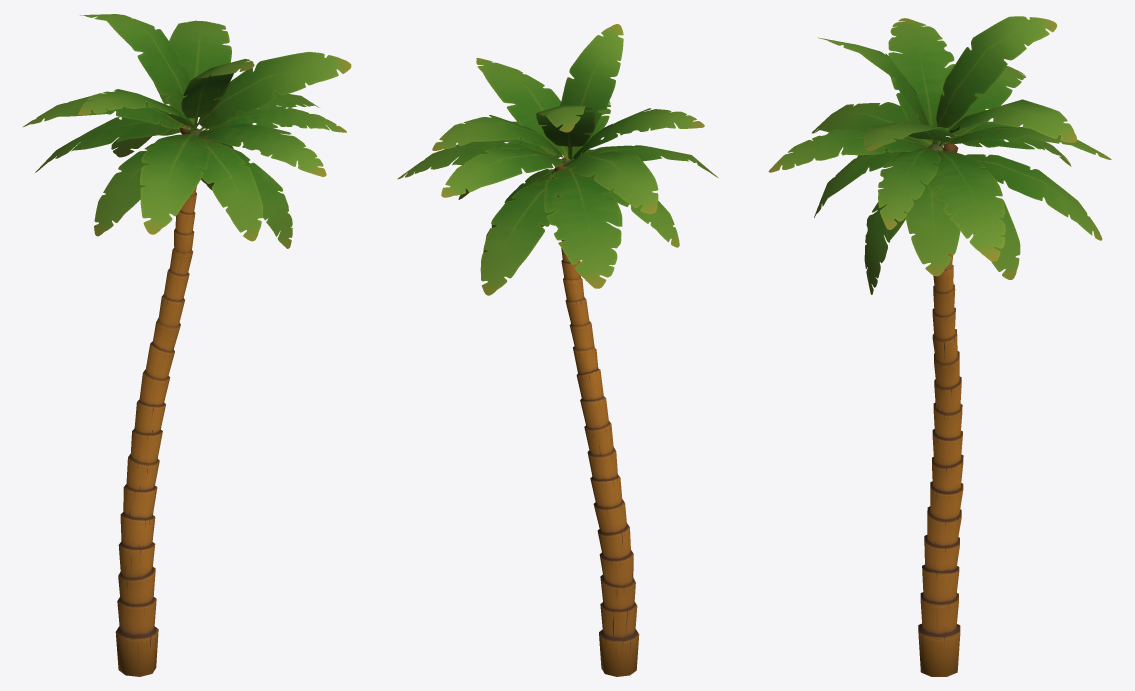
File: SM_Nature_Tree_02.fbx
The picture shows the model from 3 angles, left to right: view 1: azimuth 30°, elevation 25°; view 2: azimuth 150°, elevation 25°; view 3: azimuth 270°, elevation 25°; orthographic projection. The views are drawn at different scales.
Parts seen in each view (by area): view 1: Tree_02_LOD0; view 2: Tree_02_LOD0; view 3: Tree_02_LOD0.
Boxes of the visible parts, x1,y1,x2,y2 form: Tree_02_LOD0: [23, 14, 351, 676]; Tree_02_LOD0: [397, 24, 718, 676]; Tree_02_LOD0: [768, 16, 1111, 676].
Size of the model in its own units: 425 by 839 by 415.
